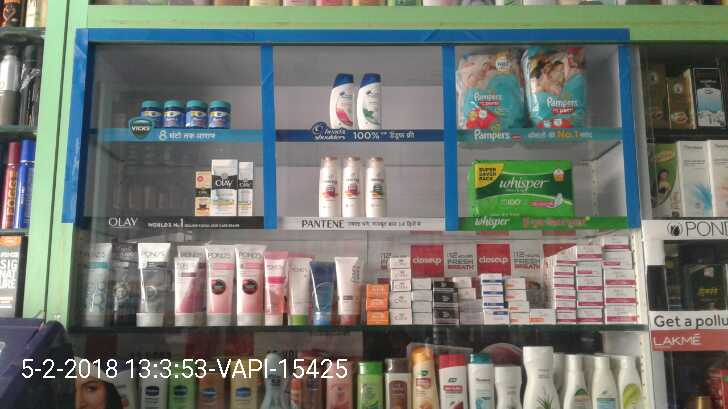vicks: (132, 93, 234, 133)
